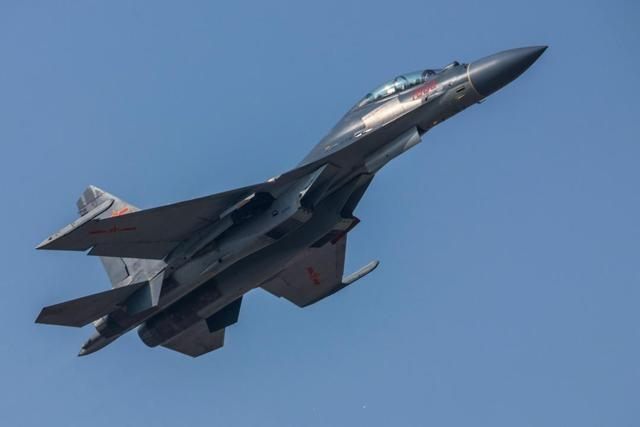airplane: (24, 42, 549, 362)
